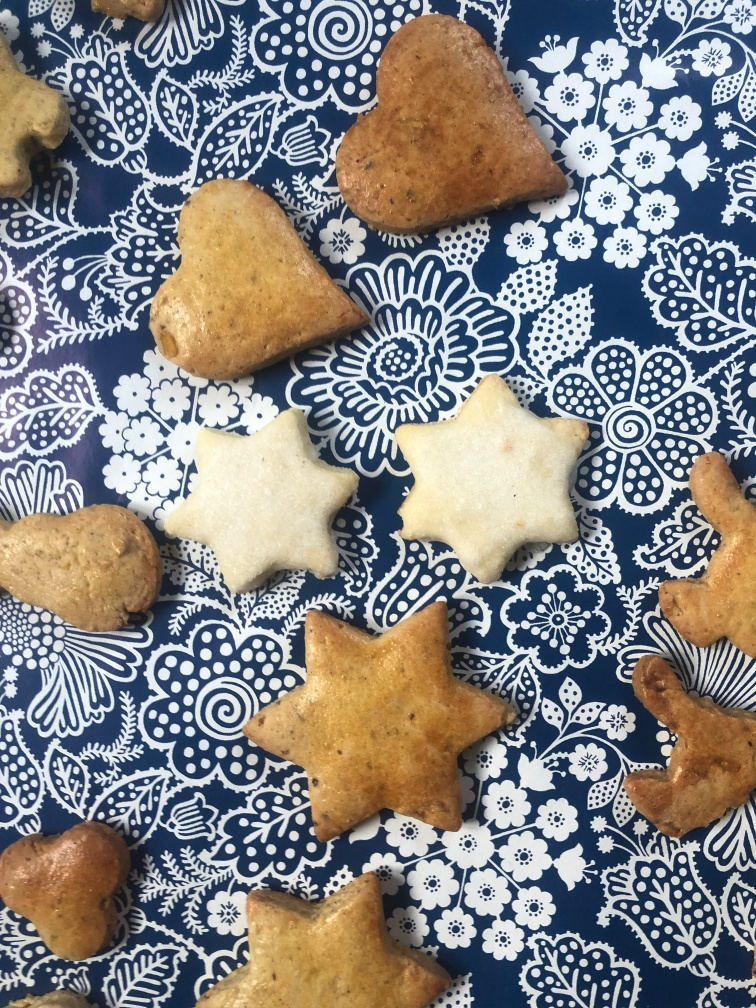flake: (3, 821, 139, 955)
heart: (335, 15, 567, 232), (144, 179, 361, 379)
snowman: (1, 496, 161, 635)
squirrel: (622, 655, 756, 833), (657, 450, 756, 652)
star: (243, 606, 517, 834), (394, 374, 590, 579), (182, 873, 451, 1008), (162, 411, 351, 590)
